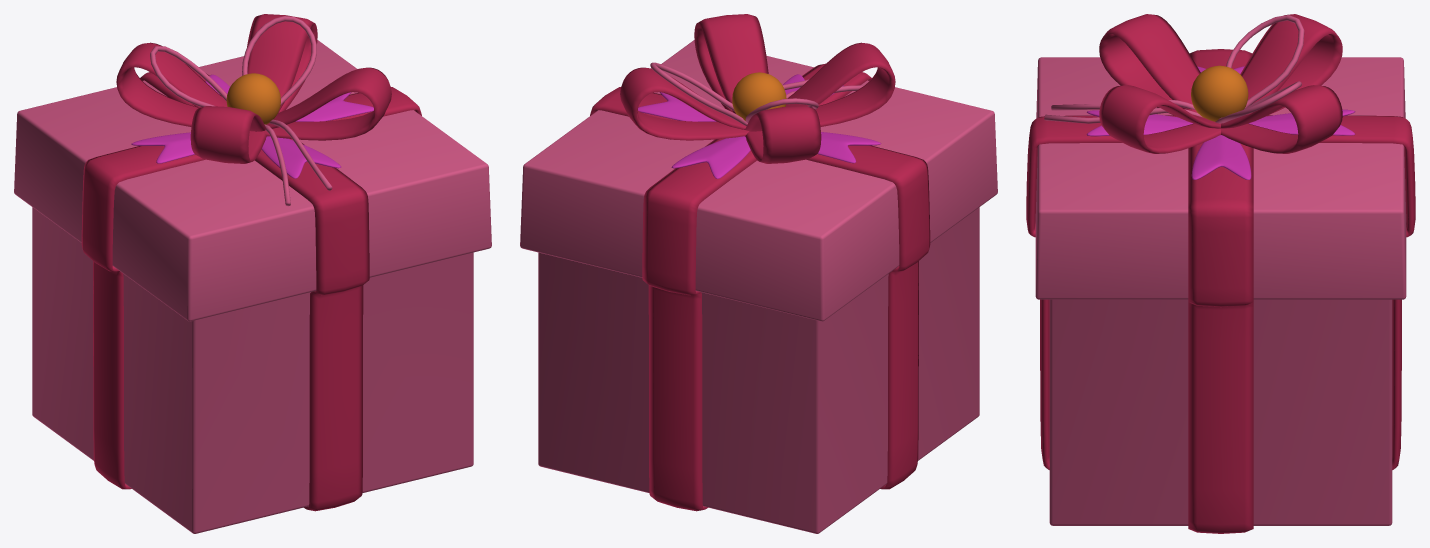
File: gift.obj
3 views of the same model, side by side, from view 1: azimuth 30°, elevation 25°; view 2: azimuth 150°, elevation 25°; view 3: azimuth 270°, elevation 25° (orthographic). The views are drawn at different scales.
Visible parts, largest first — view 1: Giftbox02; view 2: Giftbox02; view 3: Giftbox02.
Part boxes in pixels (x1,y1,x2,y2): Giftbox02: [14, 14, 491, 533]; Giftbox02: [520, 14, 997, 533]; Giftbox02: [1026, 14, 1415, 533].
Size of the model in its own units: 0.6817 by 0.7977 by 0.6817.
